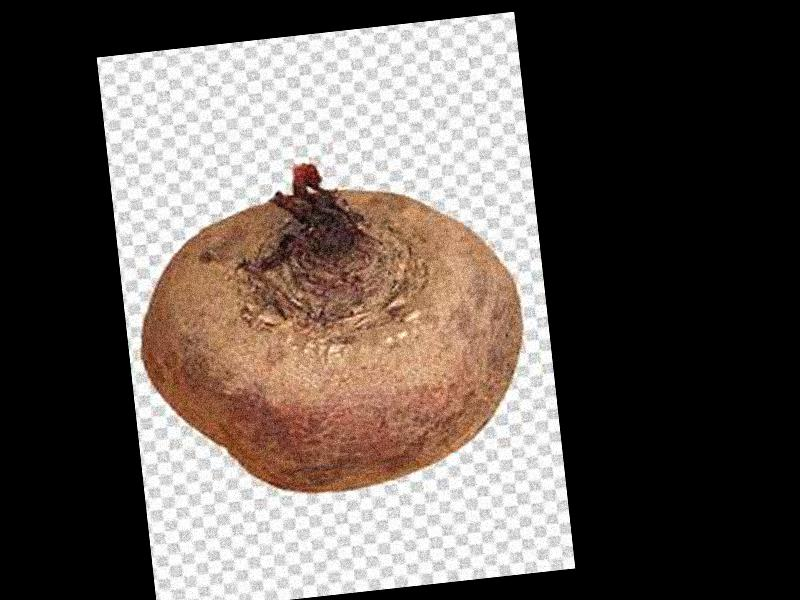Beet: (126, 141, 536, 509)
